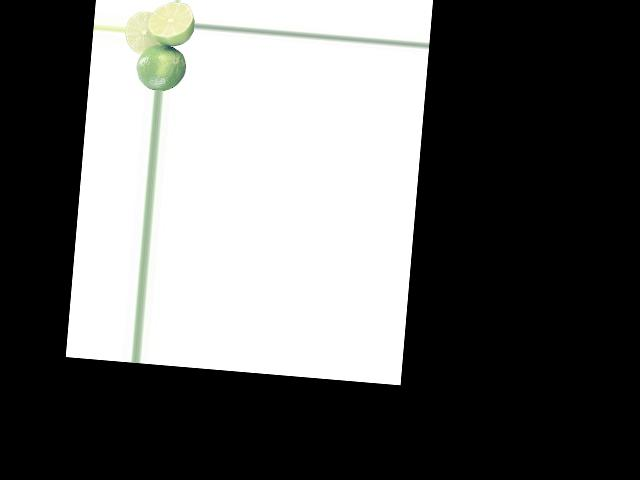lemon: (135, 40, 186, 91)
